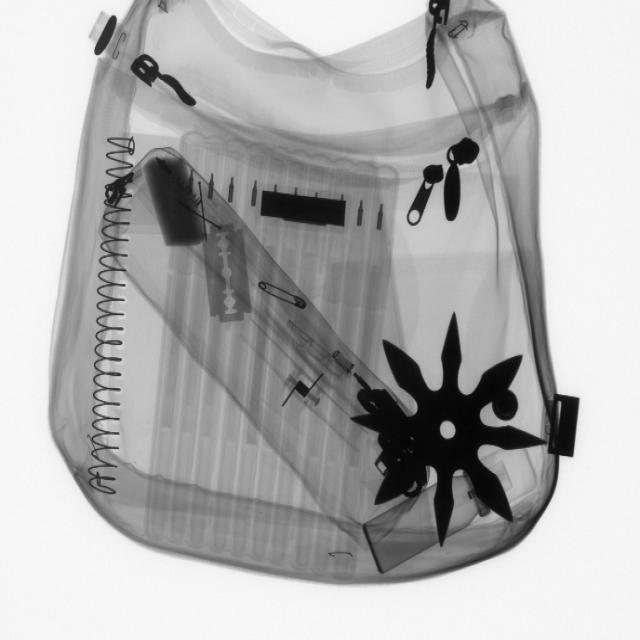BLADE: (199, 202, 260, 331)
SHURIKEN: (354, 314, 542, 552)
